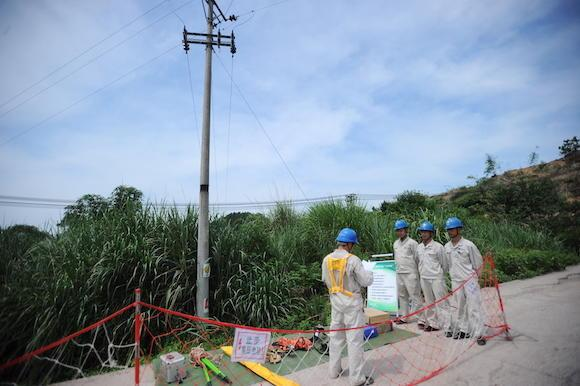helmet: (336, 227, 361, 246), (444, 217, 466, 232), (394, 219, 410, 233), (419, 221, 436, 233)
